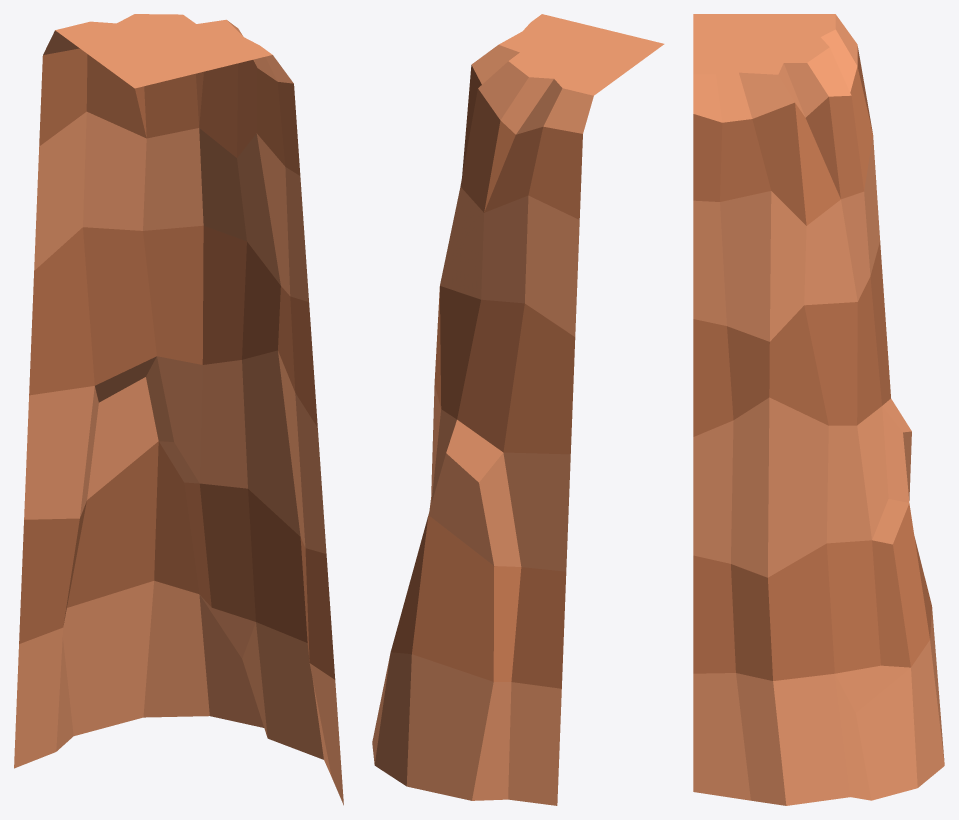
File: Outer_Corner_1.fbx
3 renders of one model, left to right at view 1: azimuth 30°, elevation 25°; view 2: azimuth 150°, elevation 25°; view 3: azimuth 270°, elevation 25°, orthographic. The views are drawn at different scales.
Parts seen in each view (by area): view 1: Outer_Corner_1; view 2: Outer_Corner_1; view 3: Outer_Corner_1.
Boxes of the visible parts, box(x1,y1,x2,y2) form: Outer_Corner_1: box(14, 14, 343, 805); Outer_Corner_1: box(372, 14, 664, 805); Outer_Corner_1: box(693, 14, 944, 805).
Size of the model in its own units: 231 by 702 by 233.
